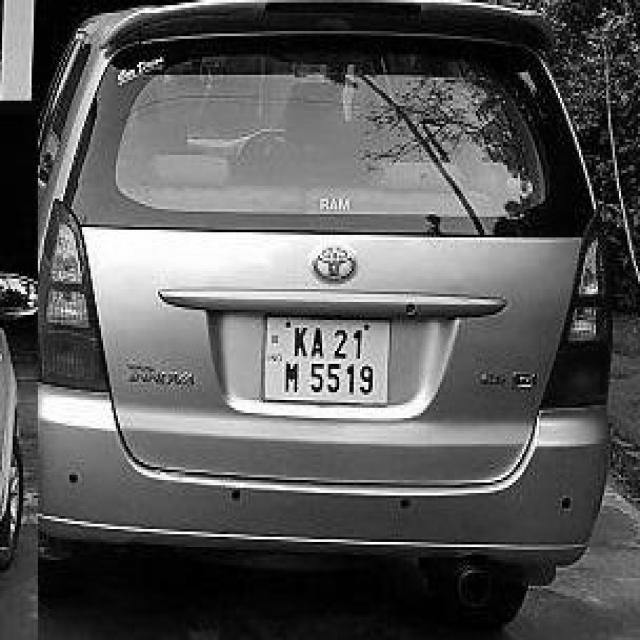car: (23, 2, 617, 630)
license-plate: (268, 320, 390, 403)
